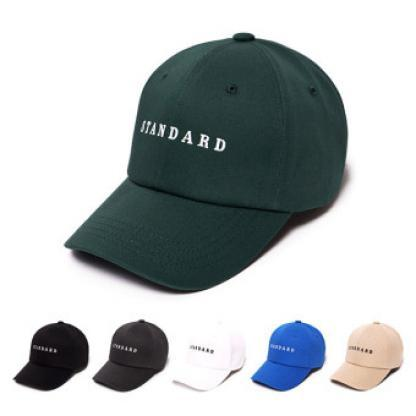cap: (51, 20, 381, 302), (10, 320, 92, 395), (171, 317, 248, 394), (250, 318, 328, 394), (94, 318, 171, 393), (330, 319, 406, 394)
